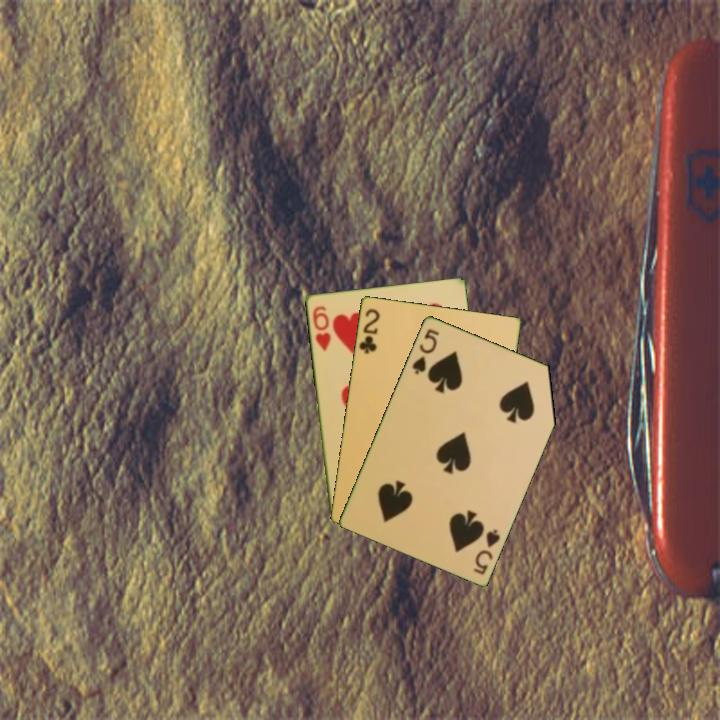2c: (355, 305, 382, 356)
5s: (408, 325, 442, 377), (470, 525, 503, 577)
6h: (309, 302, 333, 354)
